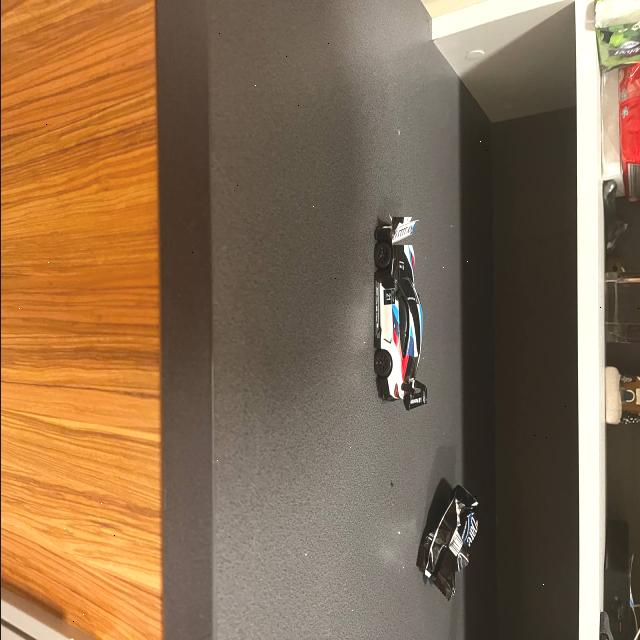KX 7777 KX: (391, 217, 418, 245)
